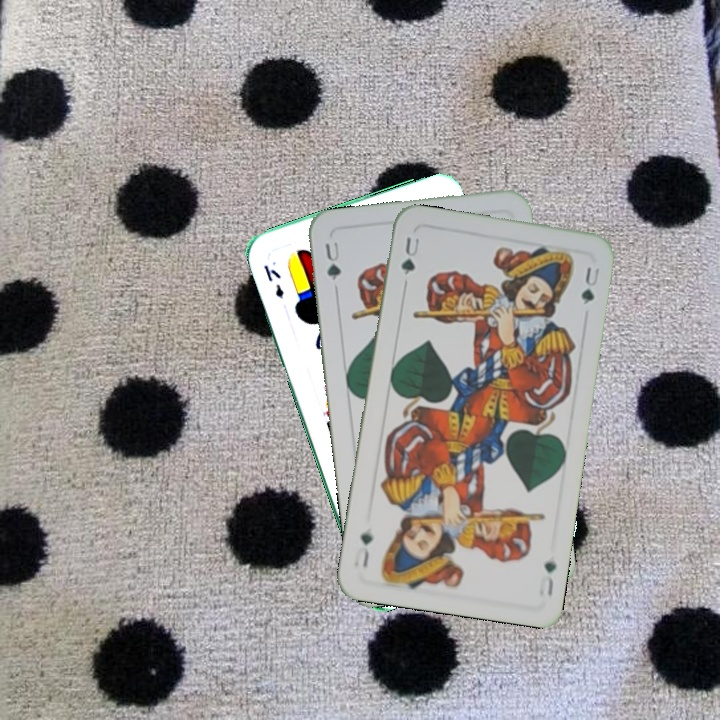EK: (259, 260, 287, 301)
GU: (321, 237, 344, 293), (397, 233, 422, 279), (535, 556, 559, 599)
